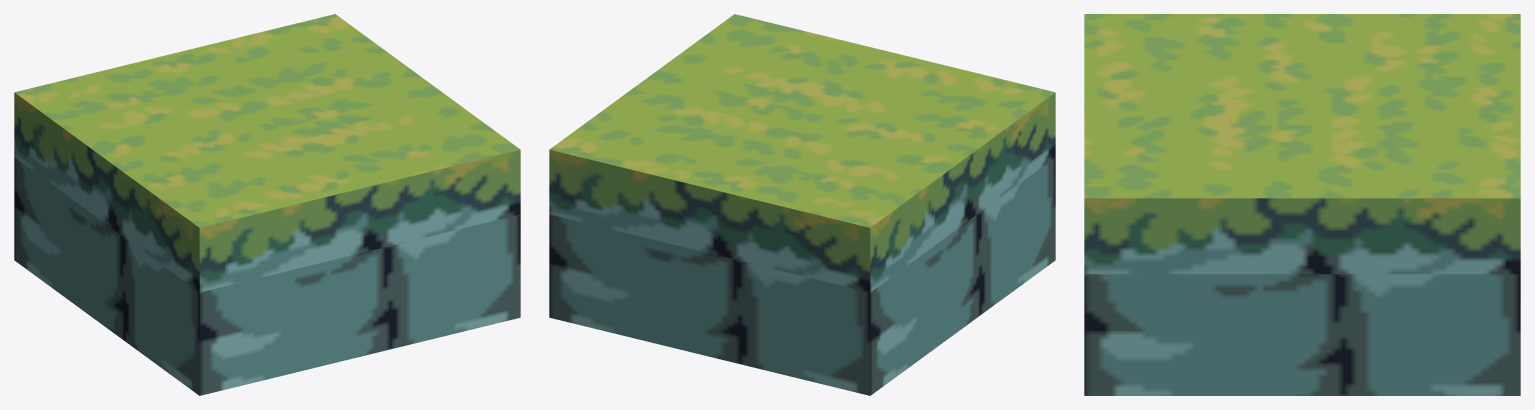
Rendered from block_rect.glb.
3 renders of one model, left to right at view 1: azimuth 30°, elevation 25°; view 2: azimuth 150°, elevation 25°; view 3: azimuth 270°, elevation 25°, orthographic. The views are drawn at different scales.
Parts seen in each view (by area): view 1: Cube; view 2: Cube; view 3: Cube.
Part boxes in pixels (bbox=[...]): Cube: bbox=[14, 14, 520, 395]; Cube: bbox=[549, 14, 1055, 395]; Cube: bbox=[1084, 14, 1520, 395].
Size of the model in its own units: 2 by 1 by 2.
Materials: 2 (2 with a texture image).
